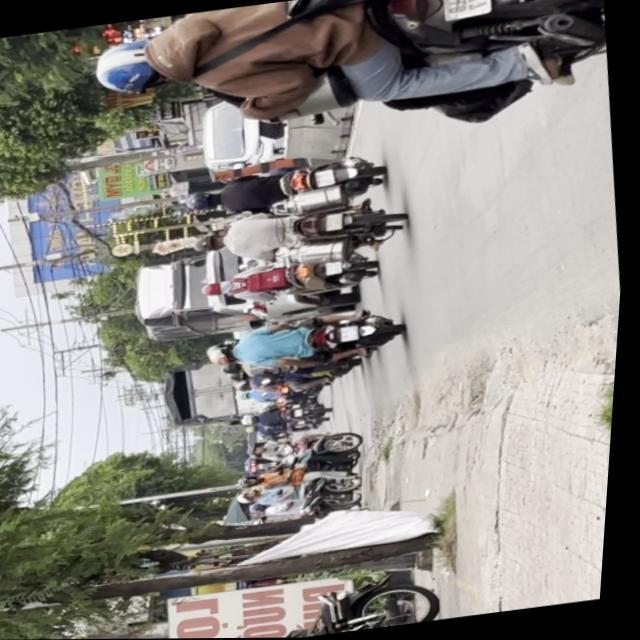helmet: (89, 31, 173, 100), (192, 229, 227, 253), (186, 189, 221, 211)
licenseplate: (76, 0, 616, 171), (188, 192, 412, 270), (183, 151, 393, 220)
nohelmet: (438, 0, 489, 18), (315, 168, 338, 186), (326, 212, 346, 230)
